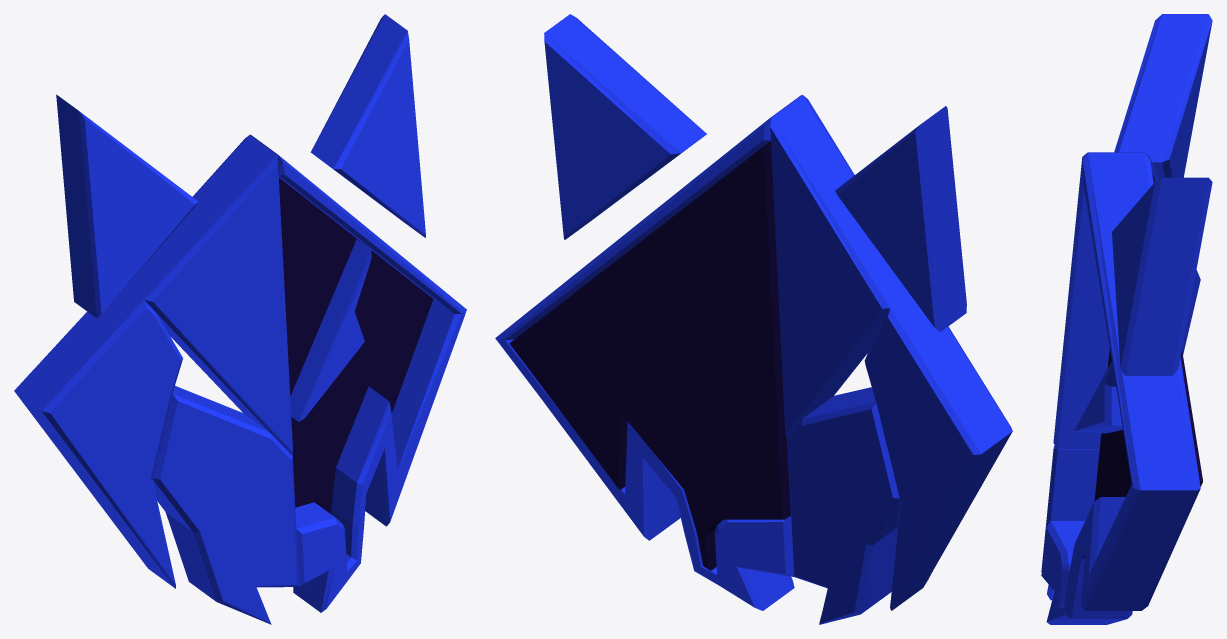
File: amarok.glb
3 views of the same model, side by side, from view 1: azimuth 30°, elevation 25°; view 2: azimuth 150°, elevation 25°; view 3: azimuth 270°, elevation 25° (orthographic). The views are drawn at different scales.
Visible parts, largest first — view 1: brow, cheek, muzzle, void, frame, earL, earR, eyeR; view 2: void, brow, cheek, muzzle, earR, frame, earL; view 3: frame, earR, earL, brow, muzzle, void, eyeR, cheek.
Part boxes in pixels (x1,y1,x2,y2): brow: (126, 135, 293, 455); cheek: (14, 287, 183, 588); muzzle: (152, 386, 298, 624); void: (278, 177, 433, 513); frame: (250, 134, 466, 612); earL: (56, 94, 198, 318); earR: (310, 14, 425, 237); eyeR: (290, 239, 371, 421); void: (509, 141, 790, 570); brow: (770, 95, 909, 437); cheek: (864, 294, 1012, 610); muzzle: (787, 387, 899, 624); earR: (544, 14, 706, 239); frame: (495, 95, 801, 610); earL: (835, 106, 966, 331); frame: (1041, 152, 1200, 624); earR: (1112, 177, 1212, 375); earL: (1114, 14, 1212, 179); brow: (1053, 152, 1158, 449); muzzle: (1041, 445, 1099, 600); void: (1094, 174, 1202, 500); eyeR: (1074, 361, 1122, 433); cheek: (1182, 270, 1200, 354).
Size of the model in its own units: 3.02 by 3.44 by 1.03.
